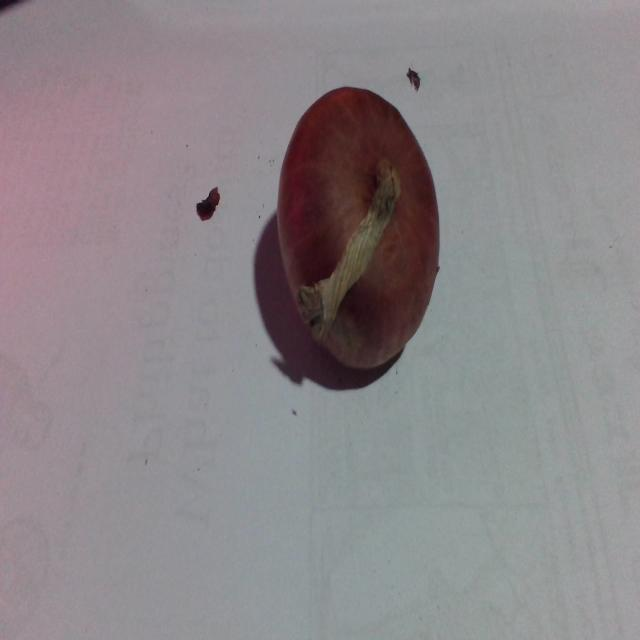onion: (273, 73, 444, 378)
